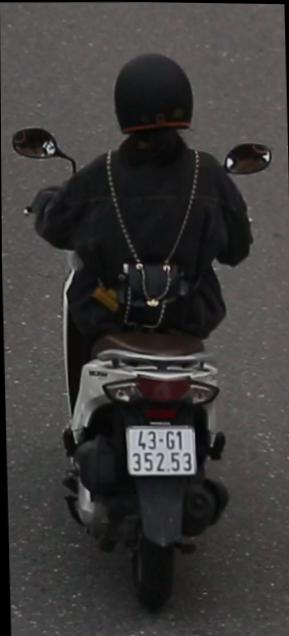LP: (121, 421, 198, 483)
helmet: (106, 44, 198, 152)
